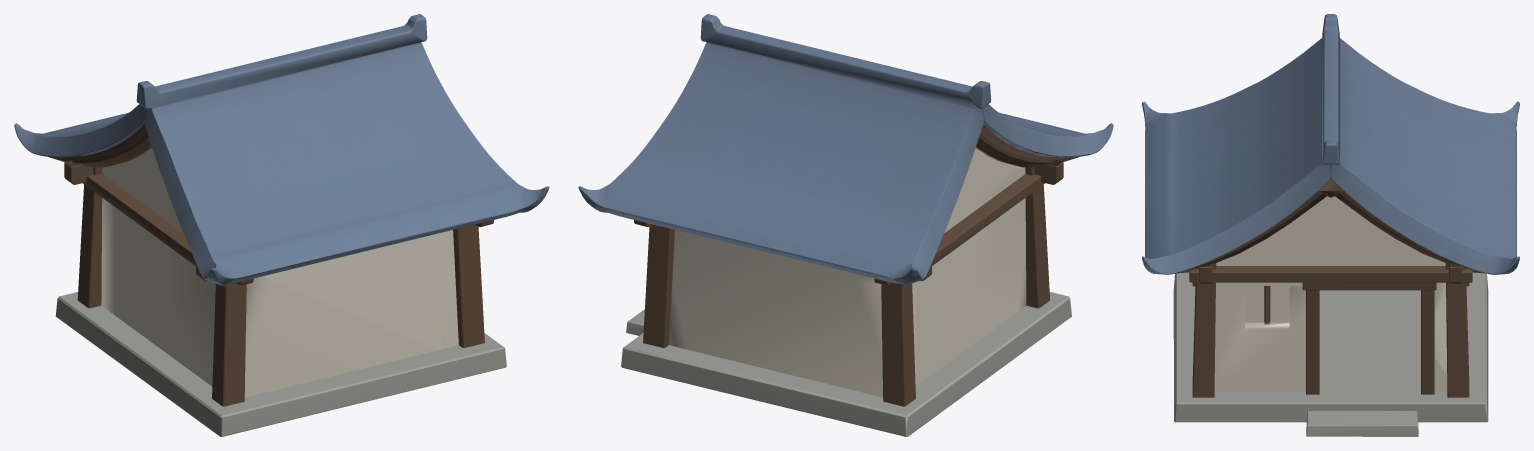
Rendered from cottage_tripo.glb.
3 renders of one model, left to right at view 1: azimuth 30°, elevation 25°; view 2: azimuth 150°, elevation 25°; view 3: azimuth 270°, elevation 25°, orthographic. The views are drawn at different scales.
Parts seen in each view (by area): view 1: CottageTripoCandidate; view 2: CottageTripoCandidate; view 3: CottageTripoCandidate.
Boxes of the visible parts, x1=… form: CottageTripoCandidate: x1=14, y1=14, x2=549, y2=436; CottageTripoCandidate: x1=578, y1=14, x2=1113, y2=436; CottageTripoCandidate: x1=1142, y1=14, x2=1519, y2=436.
Bounding box in the file's own units: 5.98 × 4.85 × 6.
4 materials, 1 textured.
